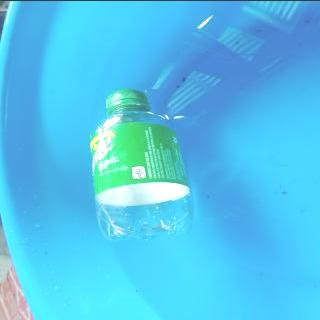bottle: (88, 88, 194, 242)
